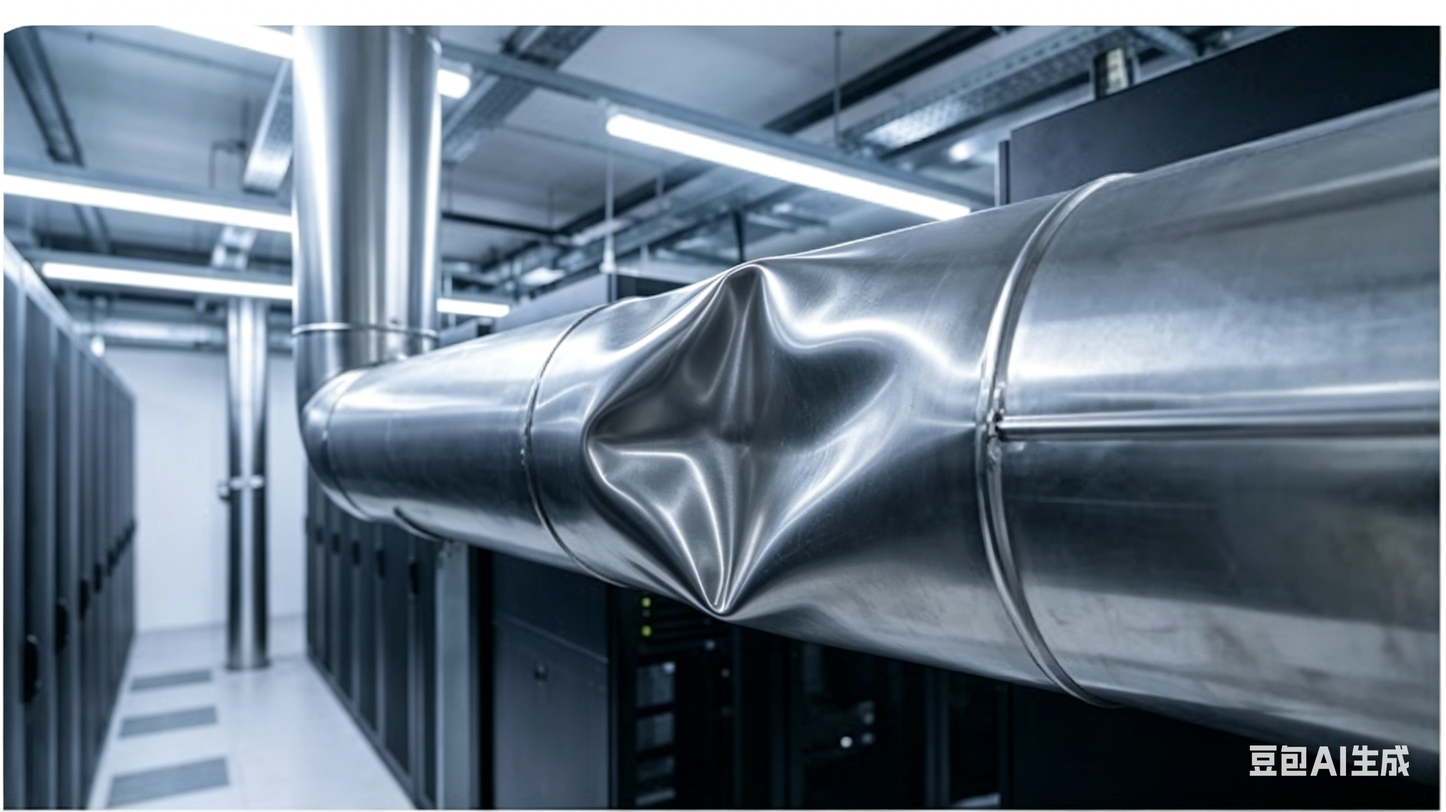Leakage: (586, 260, 880, 610)
